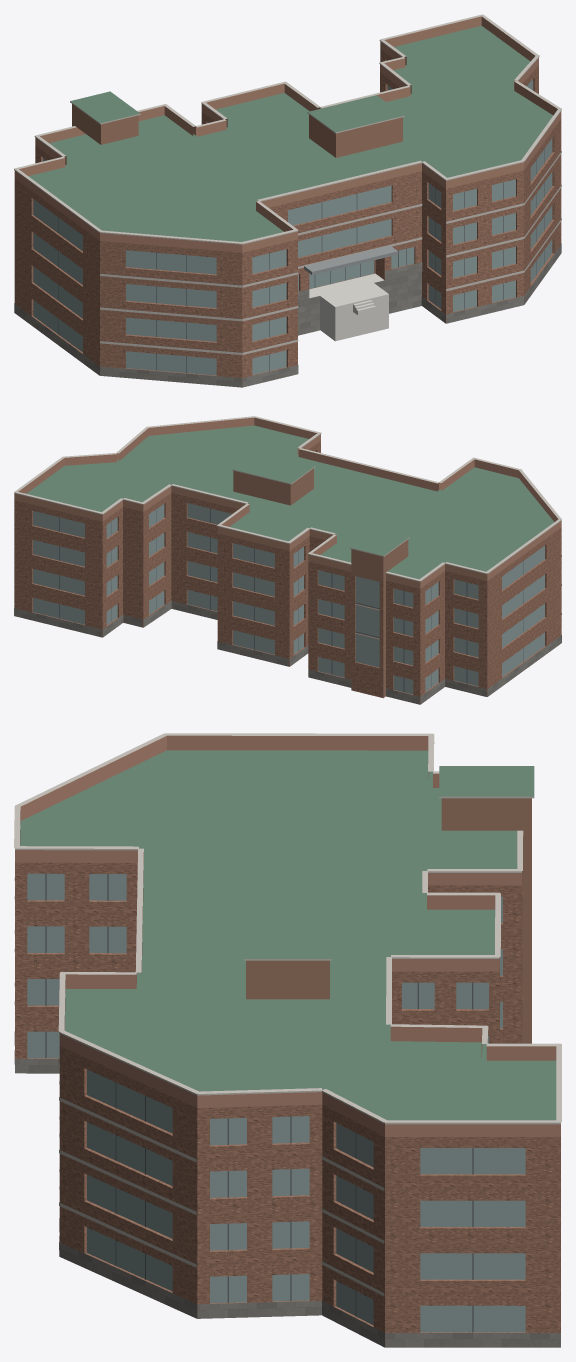
3 views of the same model, one above another, from view 1: azimuth 30°, elevation 25°; view 2: azimuth 150°, elevation 25°; view 3: azimuth 270°, elevation 25° (orthographic). The views are drawn at different scales.
Visible parts, largest first — view 1: b52__roof, b52__wall, b52__glass, b52__parapet, b52__trim, b52__base, b52__entranceStair, b52__wall2, b52__canopy, b52__frame; view 2: b52__wall, b52__roof, b52__glass, b52__parapet, b52__base, b52__trim, b52__wall2, b52__frame; view 3: b52__roof, b52__wall, b52__glass, b52__parapet, b52__trim, b52__wall2, b52__base, b52__frame.
Part boxes in pixels (bbox=[...]): b52__roof: bbox=[28, 25, 553, 335]; b52__wall: bbox=[14, 49, 561, 386]; b52__glass: bbox=[33, 79, 552, 375]; b52__parapet: bbox=[14, 16, 561, 252]; b52__trim: bbox=[14, 14, 561, 354]; b52__base: bbox=[14, 243, 561, 387]; b52__entranceStair: bbox=[309, 273, 388, 341]; b52__wall2: bbox=[72, 104, 402, 157]; b52__canopy: bbox=[304, 245, 398, 274]; b52__frame: bbox=[58, 148, 544, 373]; b52__wall: bbox=[14, 441, 561, 704]; b52__roof: bbox=[26, 425, 553, 637]; b52__glass: bbox=[33, 451, 544, 694]; b52__parapet: bbox=[14, 417, 561, 588]; b52__base: bbox=[14, 601, 561, 704]; b52__trim: bbox=[14, 416, 561, 614]; b52__wall2: bbox=[233, 468, 408, 697]; b52__frame: bbox=[59, 508, 523, 692]; b52__roof: bbox=[20, 750, 556, 1318]; b52__wall: bbox=[15, 862, 560, 1346]; b52__glass: bbox=[27, 873, 525, 1332]; b52__parapet: bbox=[15, 735, 560, 1136]; b52__trim: bbox=[14, 733, 561, 1296]; b52__wall2: bbox=[246, 798, 531, 1043]; b52__base: bbox=[14, 1031, 560, 1347]; b52__frame: bbox=[45, 873, 473, 1332].
Size of the model in its own units: 57.14 by 17.81 by 33.97.
Materials: 11 (2 with a texture image).
